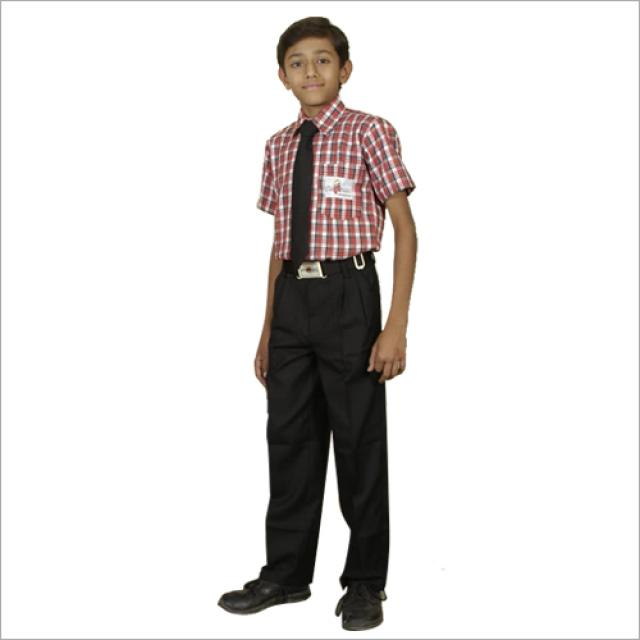child: (208, 15, 422, 639)
